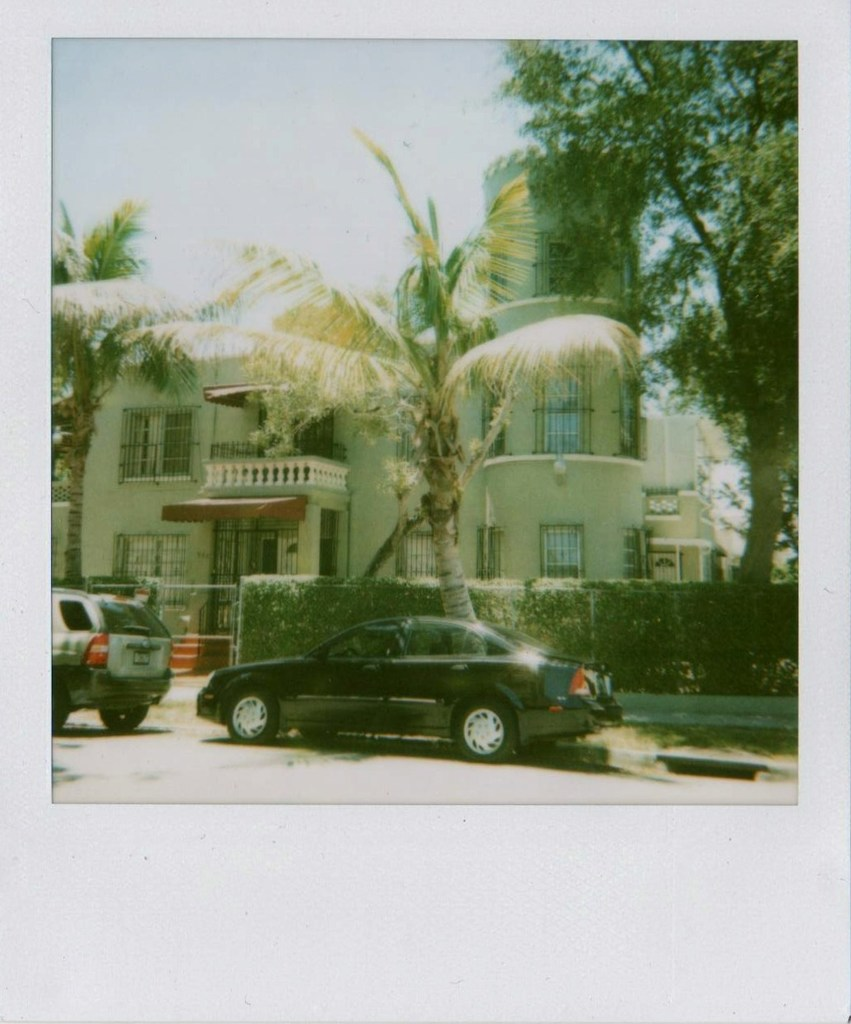Car: (196, 584, 596, 764), (47, 587, 175, 738)
